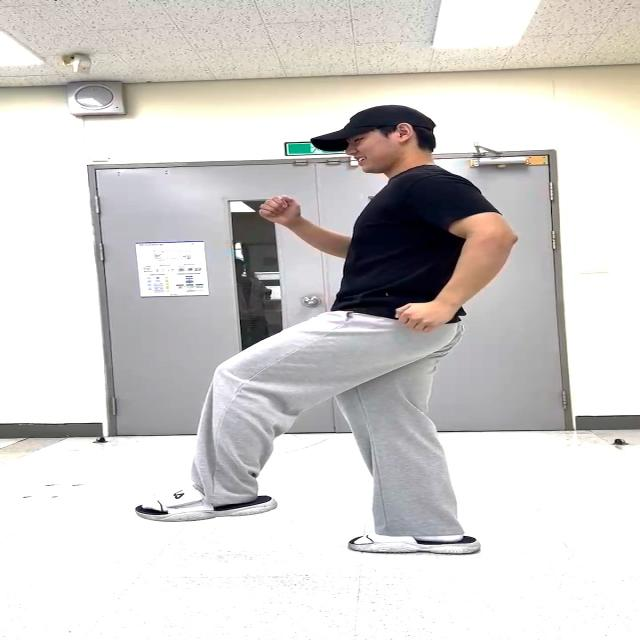leg: (130, 304, 336, 537)
